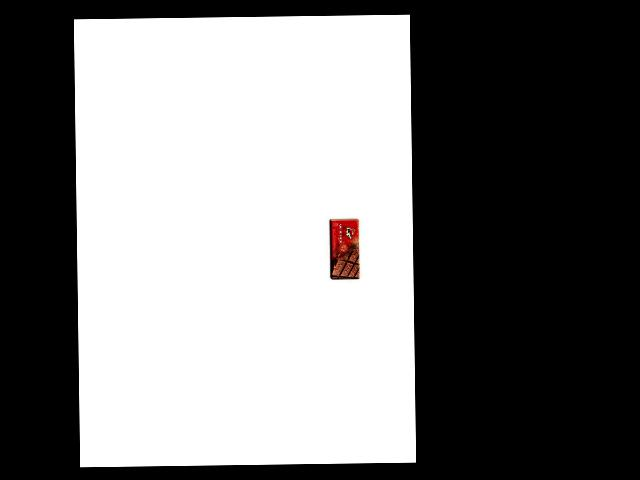chocolate: (328, 218, 360, 281)
